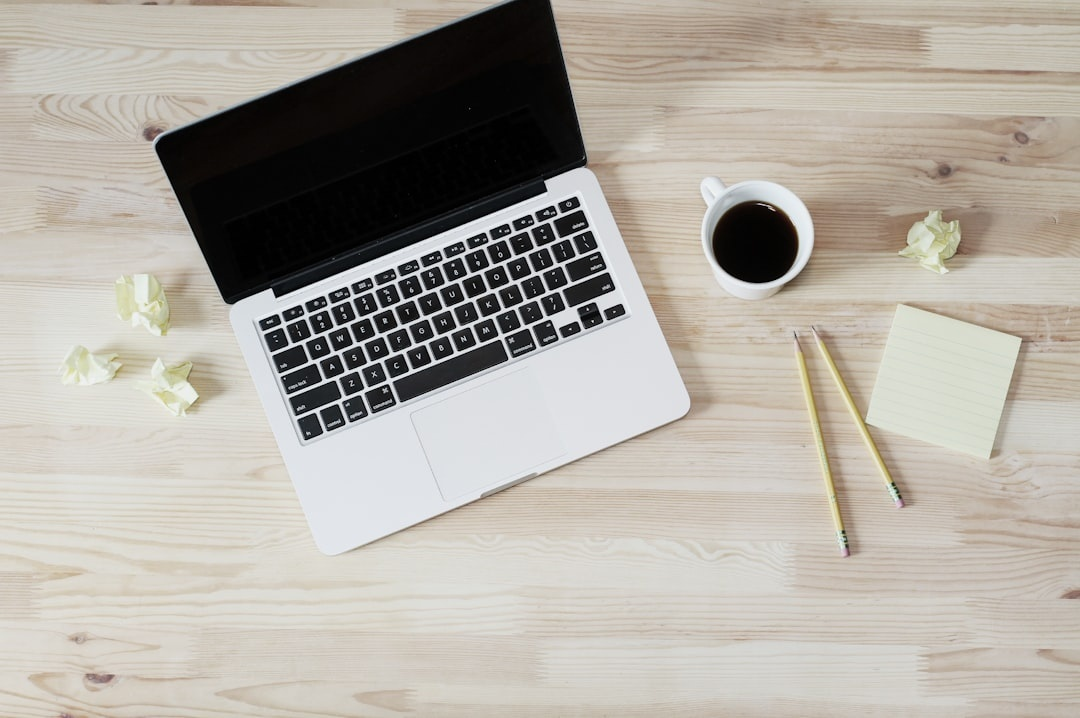laptop: (149, 3, 711, 586)
